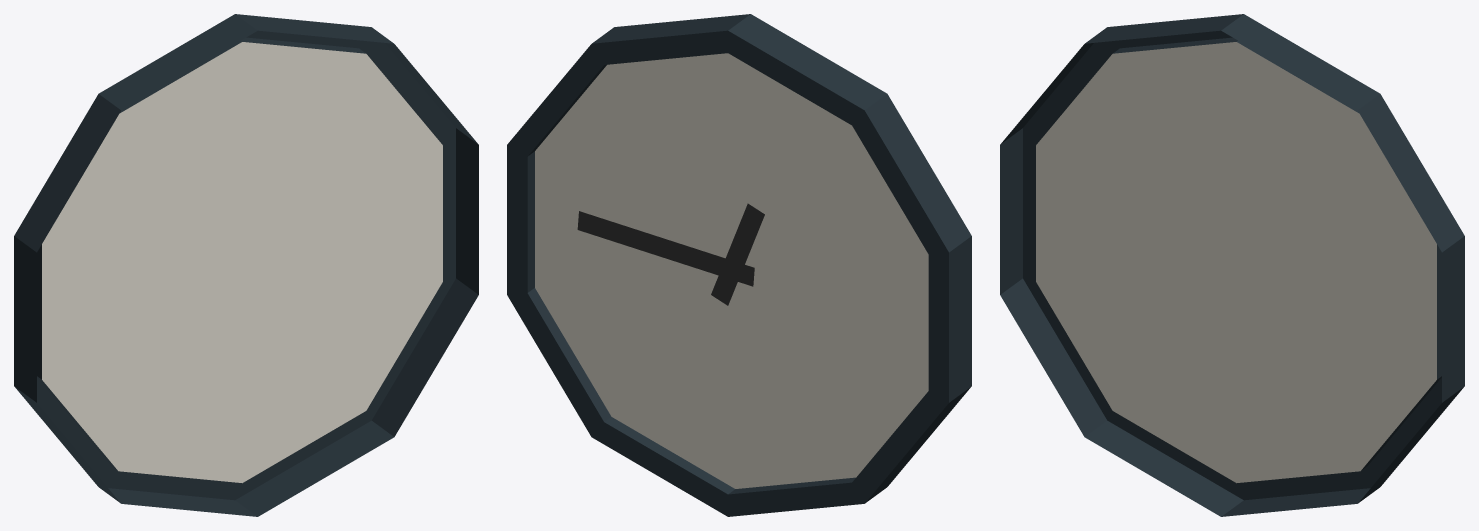
File: Clock1.fbx
3 views of the same model, side by side, from view 1: azimuth 30°, elevation 25°; view 2: azimuth 150°, elevation 25°; view 3: azimuth 330°, elevation 25° (orthographic).
Parts seen in each view (by area): view 1: Clock.002; view 2: Clock.002; view 3: Clock.002.
Boxes of the visible parts, bbox=[...] form: Clock.002: bbox=[14, 14, 478, 516]; Clock.002: bbox=[507, 14, 971, 516]; Clock.002: bbox=[1000, 14, 1464, 516].
Size of the model in its own units: 0.492 by 0.5174 by 0.044.
